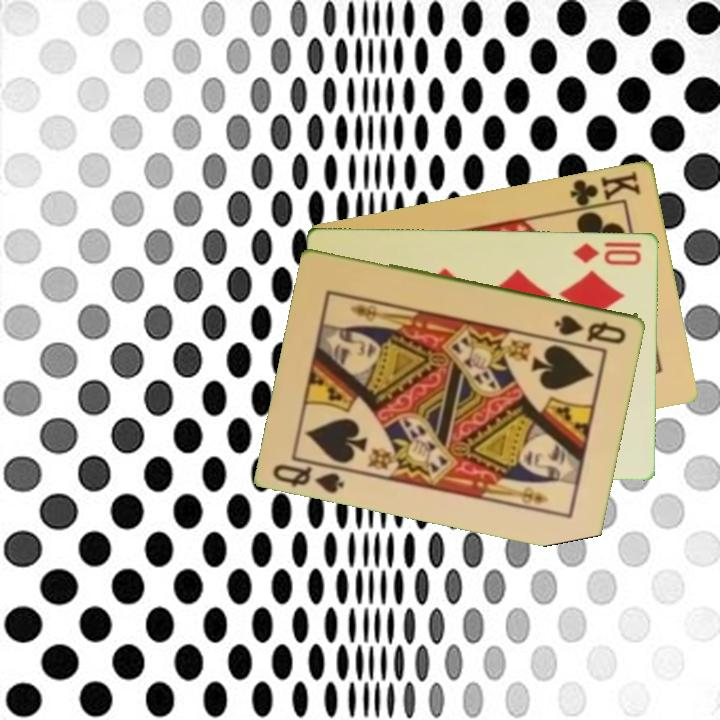10d: (569, 238, 644, 268)
Kc: (566, 167, 644, 212)
Qs: (270, 454, 352, 496), (551, 311, 629, 347)
